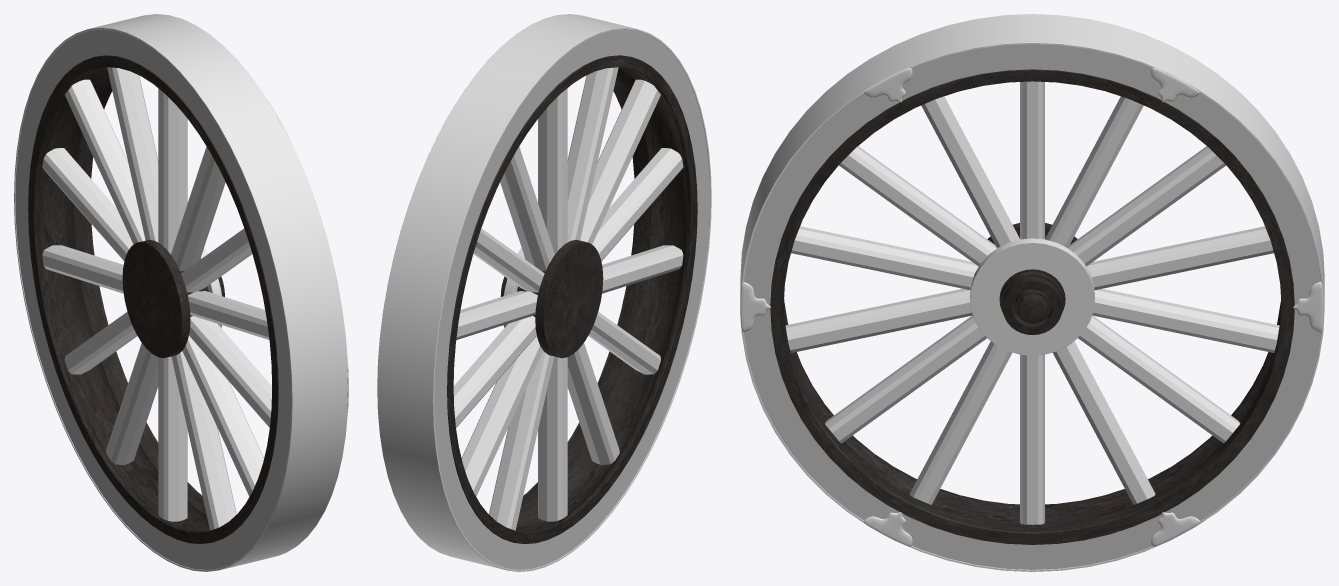
Rendered from LeftWheel.fbx.
The picture shows the model from 3 angles, left to right: view 1: azimuth 30°, elevation 25°; view 2: azimuth 150°, elevation 25°; view 3: azimuth 270°, elevation 25°; orthographic projection. The views are drawn at different scales.
Parts seen in each view (by area): view 1: spokes.001, felloes tyre.001, felloes interior.001, felloes.001, hub flange back.001; view 2: spokes.001, felloes tyre.001, felloes interior.001, felloes.001, hub flange back.001; view 3: spokes.001, felloes.001, felloes interior.001, felloes tyre.001, hub flange front.001, felloes plates.001, hub bearing.001.
Boxes of the visible parts, x1,y1,x2,y2 form: spokes.001: (42, 67, 271, 530); felloes tyre.001: (14, 14, 347, 571); felloes interior.001: (28, 55, 278, 543); felloes.001: (15, 29, 291, 569); hub flange back.001: (122, 240, 190, 358); spokes.001: (453, 67, 683, 530); felloes tyre.001: (377, 14, 711, 571); felloes interior.001: (447, 55, 697, 544); felloes.001: (434, 29, 710, 569); hub flange back.001: (535, 240, 603, 358); spokes.001: (785, 81, 1279, 524); felloes.001: (743, 44, 1321, 569); felloes interior.001: (770, 69, 1294, 544); felloes tyre.001: (740, 14, 1324, 571); hub flange front.001: (970, 238, 1094, 355); felloes plates.001: (740, 68, 1323, 546); hub bearing.001: (999, 269, 1065, 334).
Bounding box in the file's own units: 18.79 × 140 × 140.
